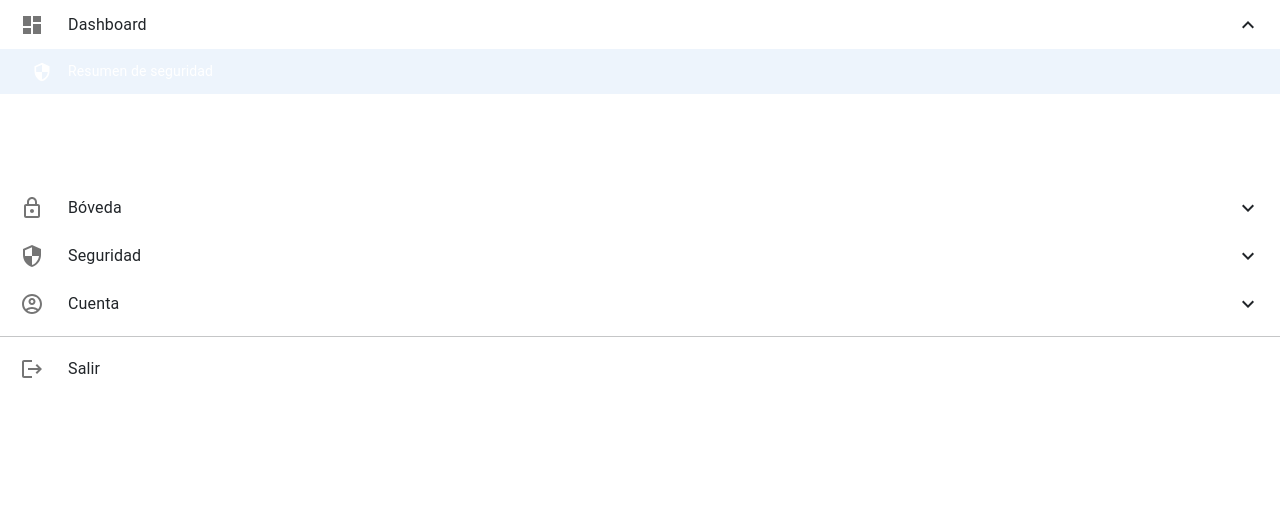
it: muestra una sola agrupación abierta y permite cambiarla
Expected: the text "Plataformas" is not shown
What coordinates should you click on to do the following:
click the button "Bóveda"
I would click on:
 (95, 208)
Its box is [20,196,1260,220].
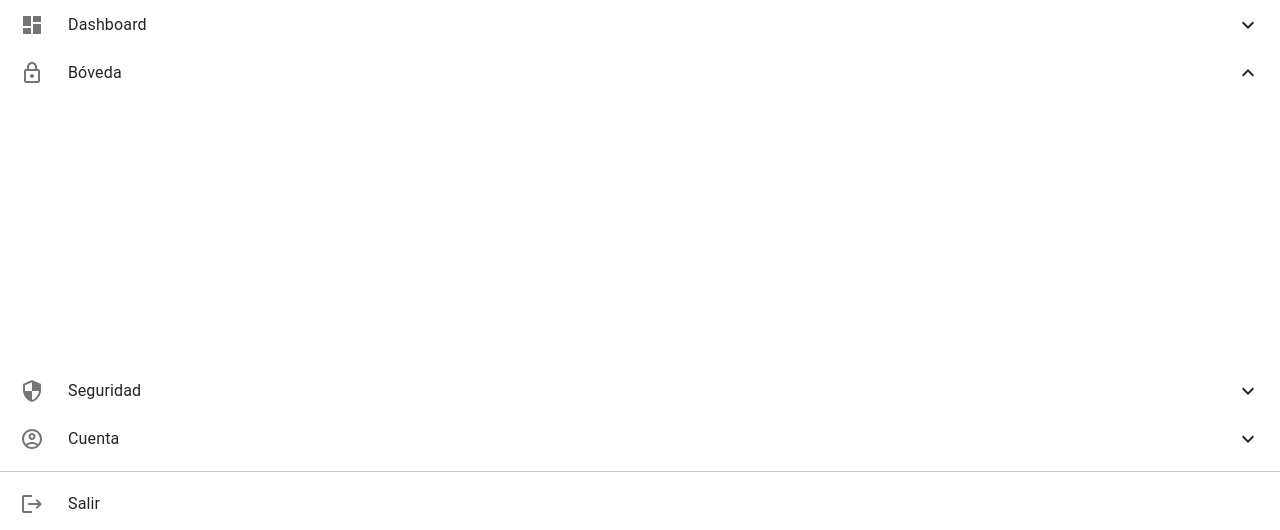
Expected: the link "Resumen de seguridad" is gone
